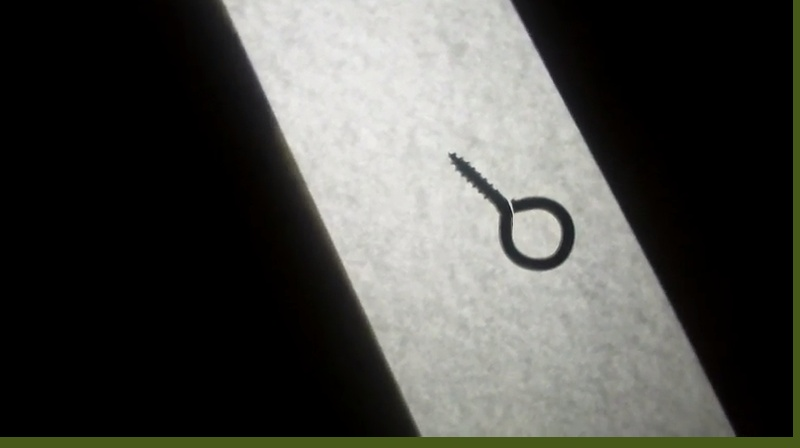O001: (445, 152, 578, 274)
